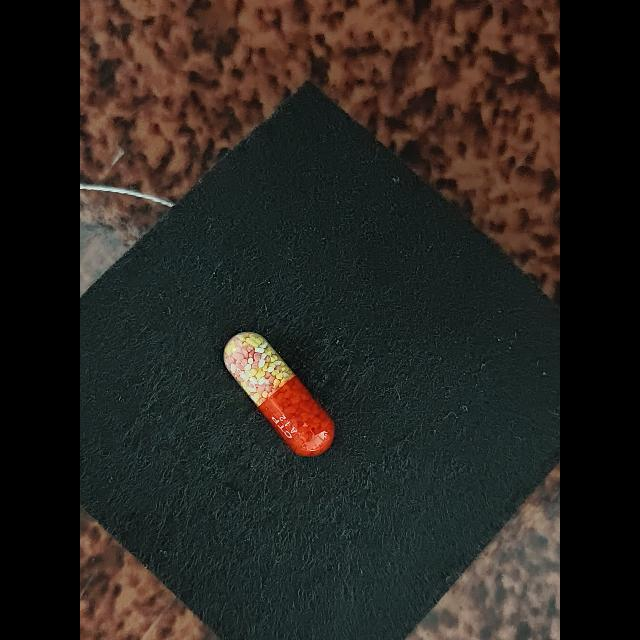Intact Capsule: (223, 331, 335, 456)
